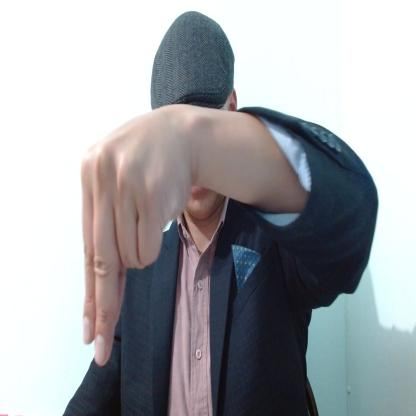N: (80, 102, 191, 364)
